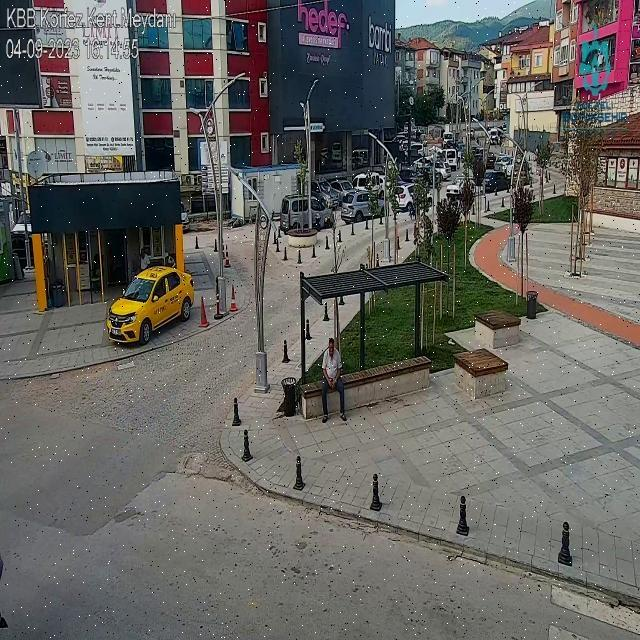Car: (109, 266, 195, 343), (281, 194, 333, 234), (340, 189, 396, 223), (10, 215, 42, 269), (393, 184, 431, 212), (414, 156, 452, 182), (325, 178, 357, 208), (352, 172, 384, 195), (446, 177, 476, 200), (482, 171, 510, 193), (510, 158, 532, 186), (397, 168, 428, 186), (438, 148, 459, 170), (465, 146, 486, 167), (494, 156, 514, 177), (398, 142, 424, 158), (396, 127, 421, 142), (352, 149, 369, 169), (310, 180, 330, 196), (181, 202, 190, 232), (468, 120, 488, 132), (412, 157, 430, 170), (488, 129, 502, 145), (428, 126, 444, 140), (331, 142, 342, 162), (427, 146, 444, 158), (485, 153, 497, 169), (442, 132, 455, 146), (320, 148, 329, 167), (393, 133, 409, 143), (397, 177, 412, 186), (456, 142, 465, 156), (514, 152, 524, 164), (402, 124, 412, 136), (398, 141, 409, 151), (500, 122, 507, 132)
